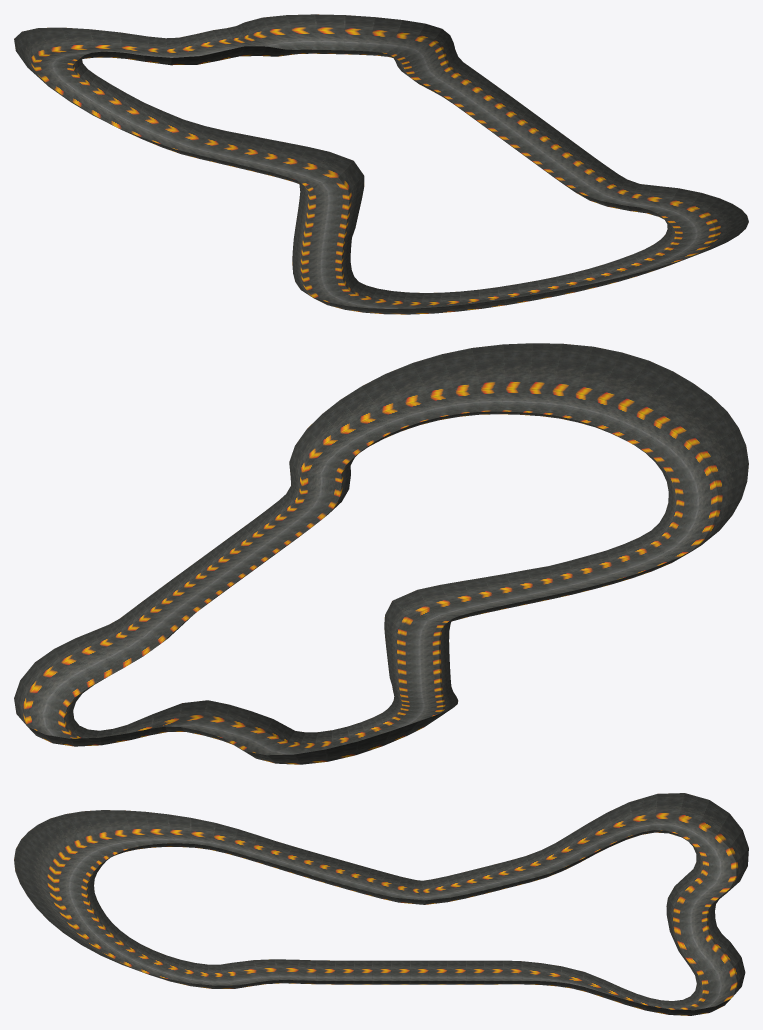
Rendered from Track_02_Tile_01.fbx.
The picture shows the model from 3 angles, top to bottom: view 1: azimuth 30°, elevation 25°; view 2: azimuth 150°, elevation 25°; view 3: azimuth 270°, elevation 25°; orthographic projection. The views are drawn at different scales.
Visible parts, largest first — view 1: Tiles_02:Layer1; view 2: Tiles_02:Layer1; view 3: Tiles_02:Layer1.
Boxes of the visible parts, left/top/right/bottom form: Tiles_02:Layer1: left=14, top=14, right=748, bottom=314; Tiles_02:Layer1: left=14, top=343, right=748, bottom=764; Tiles_02:Layer1: left=14, top=793, right=748, bottom=1015.
Bounding box in the file's own units: 79.67 × 20.13 × 148.
